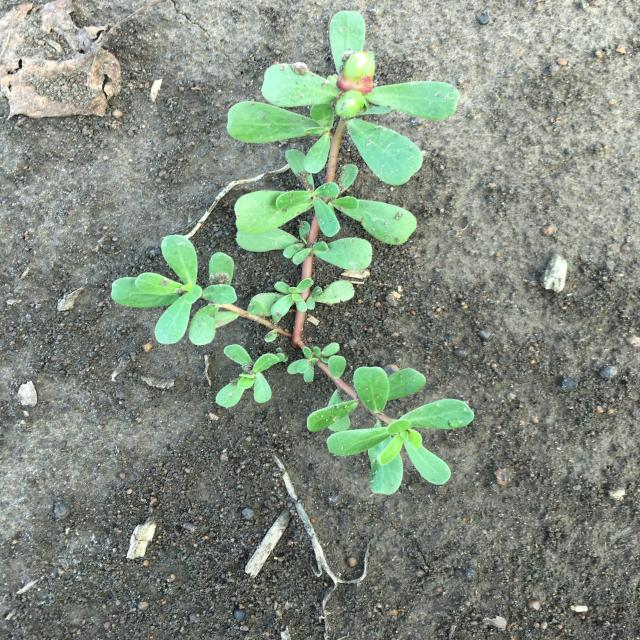Purslane: (110, 11, 474, 495)
